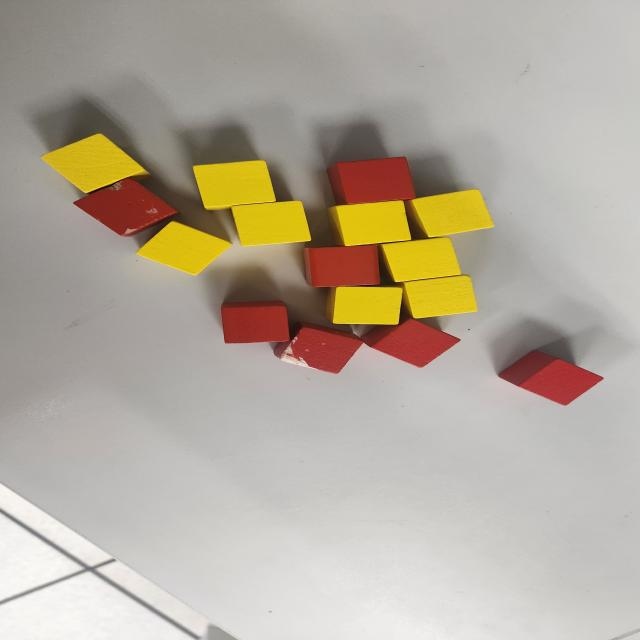broken: (74, 178, 178, 237), (269, 324, 363, 375)
red: (496, 349, 604, 406), (361, 318, 459, 368), (328, 157, 416, 205), (301, 245, 382, 286), (220, 302, 289, 342)
yellow: (42, 133, 150, 197), (135, 220, 230, 276), (412, 190, 496, 238), (194, 162, 276, 210), (324, 202, 411, 245), (383, 238, 461, 282), (233, 202, 312, 245), (403, 275, 479, 317), (332, 286, 404, 324)
